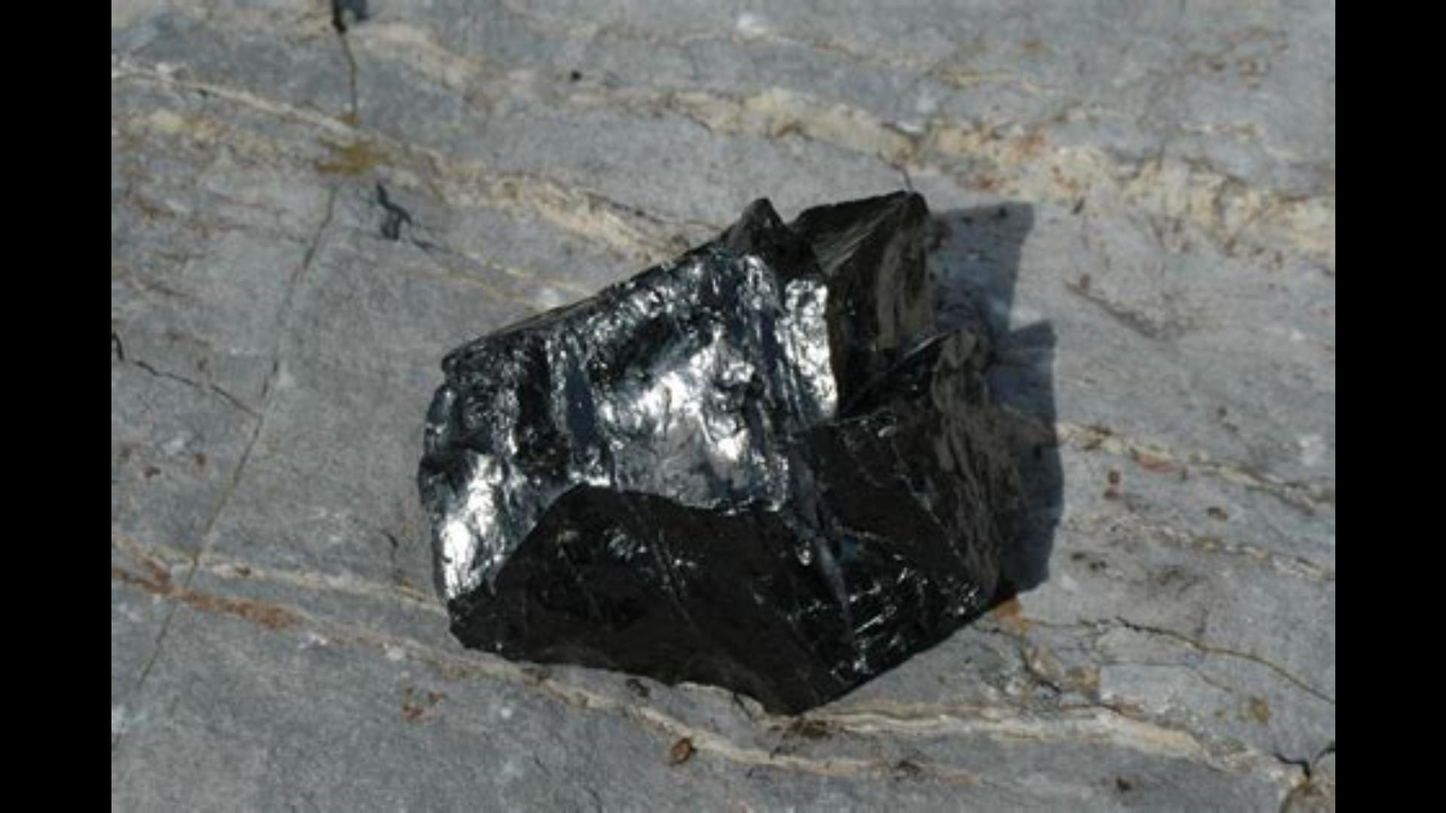rock: (421, 194, 1014, 707)
